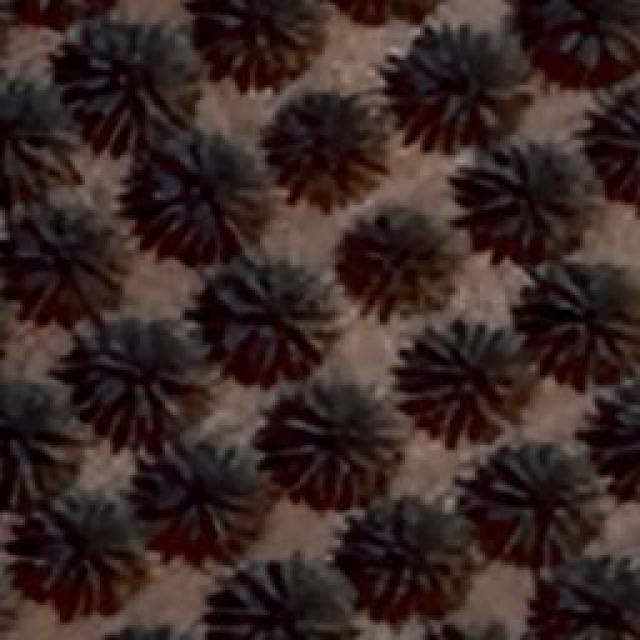PalmTree: (60, 19, 200, 152), (390, 322, 535, 442), (270, 375, 400, 503), (210, 247, 340, 375), (260, 85, 385, 210), (478, 440, 600, 565), (145, 130, 260, 260), (460, 138, 588, 252), (347, 488, 475, 600), (332, 210, 458, 322), (404, 25, 528, 133), (137, 432, 260, 540), (80, 315, 180, 443), (202, 555, 356, 635), (12, 208, 130, 310), (520, 0, 640, 98), (32, 488, 144, 590), (534, 268, 638, 370), (0, 380, 80, 505), (215, 0, 320, 88), (0, 82, 70, 202), (540, 562, 640, 640), (576, 379, 640, 497), (592, 95, 638, 200), (323, 0, 453, 25), (0, 0, 129, 25), (86, 616, 210, 640), (402, 616, 524, 640), (0, 556, 22, 639)
